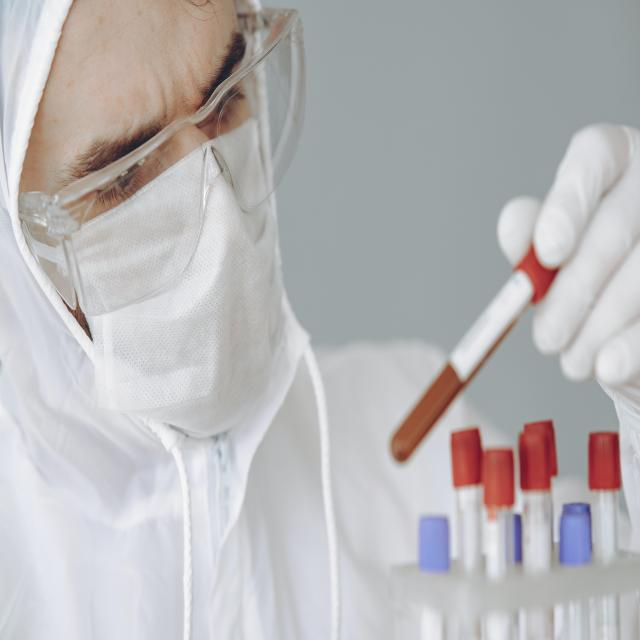Mask: (76, 122, 284, 442)
